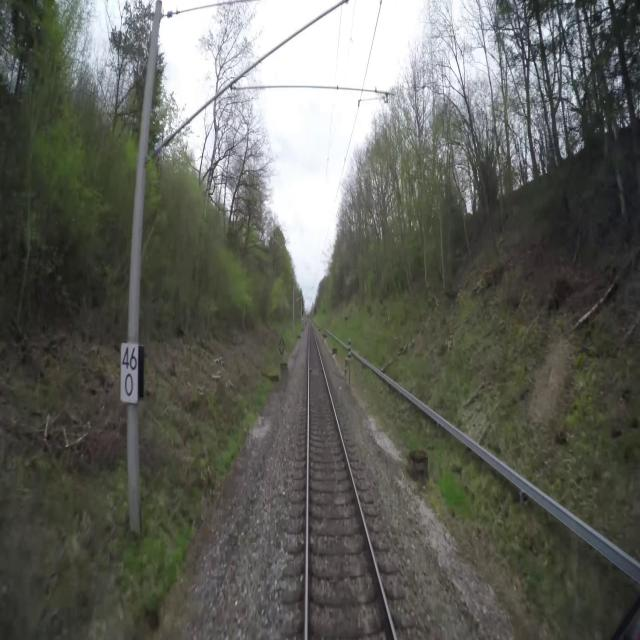rail-track: (310, 327, 393, 639)
